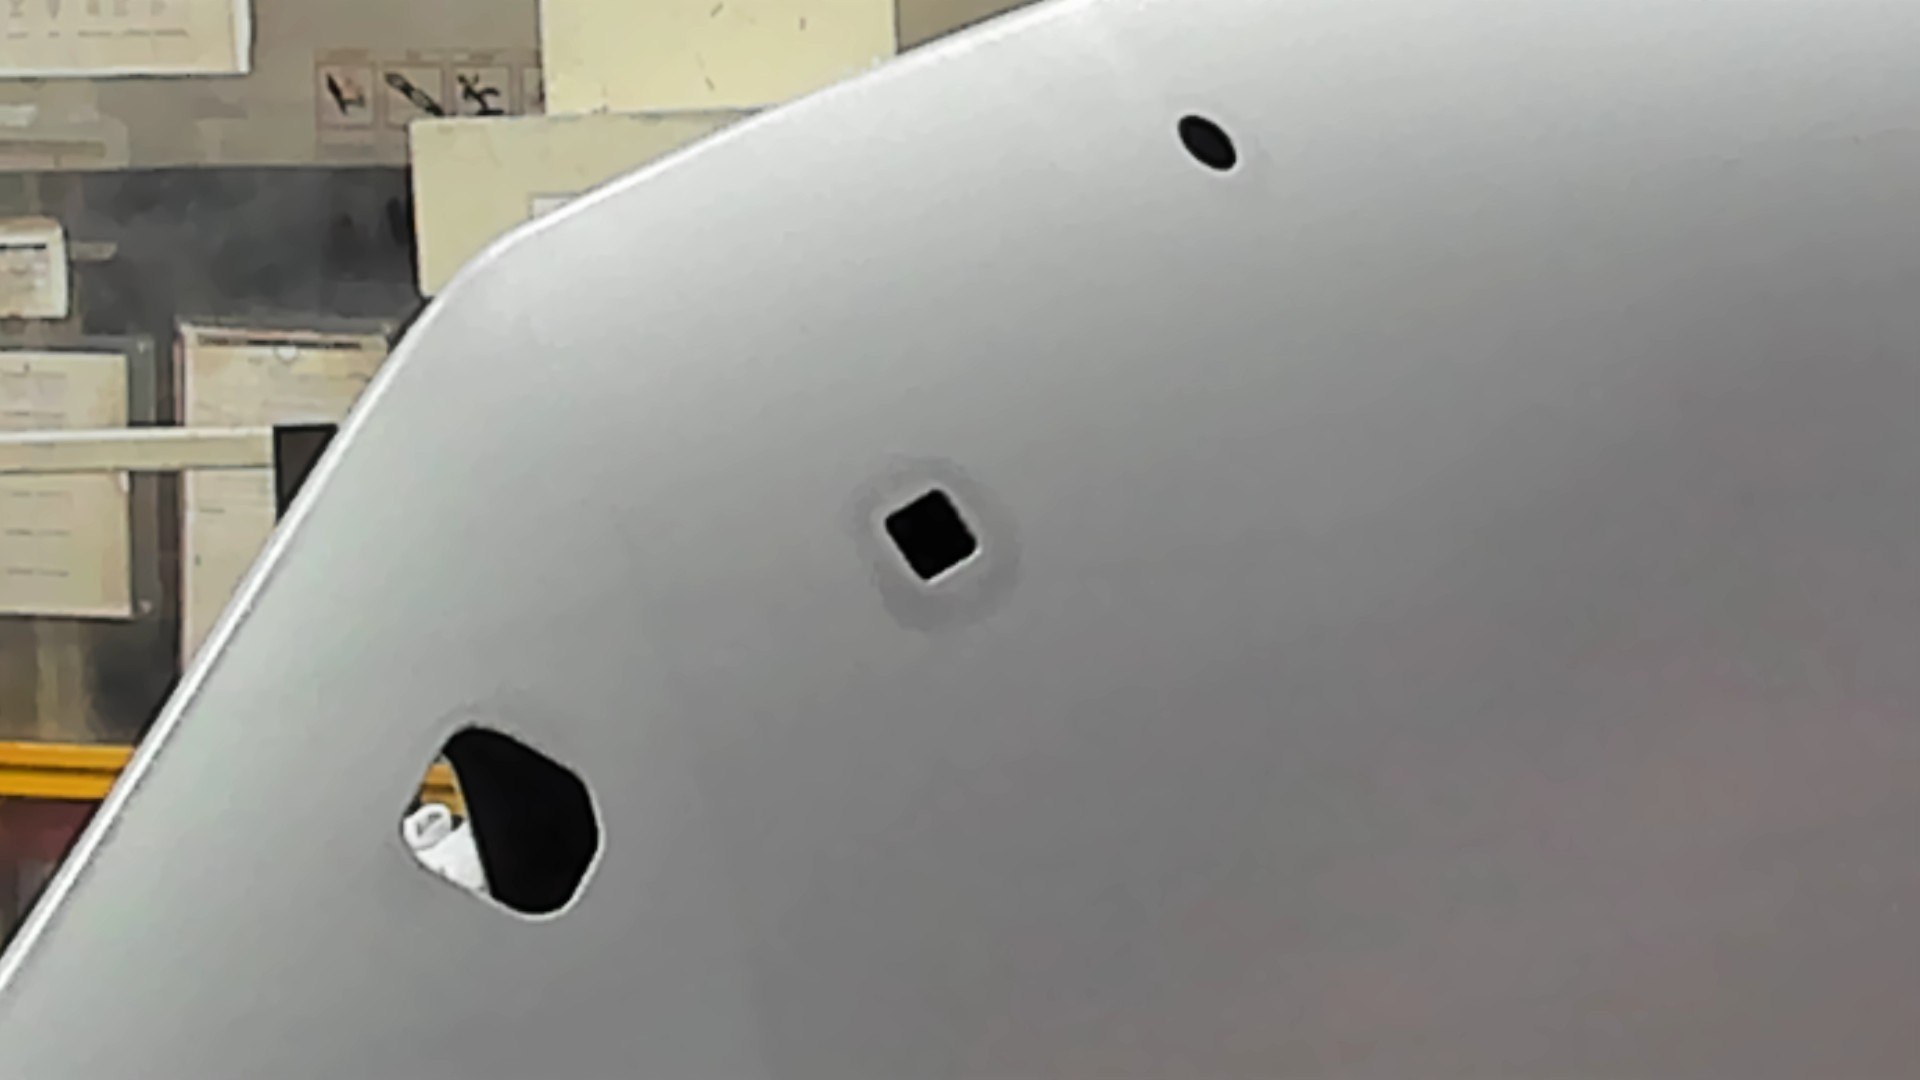capo: (994, 175, 1920, 1080)
chico: (1170, 108, 1247, 178)
grande: (388, 713, 615, 934)
mediano: (869, 479, 992, 591)
